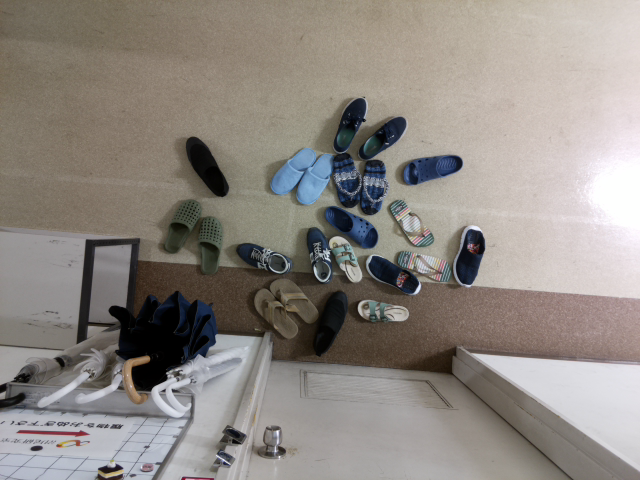Copy of Copy of Copy of Copy of Copy of Copy of Copy of Copy of Copy of Copy of: (360, 248, 431, 301), (267, 273, 329, 333), (263, 141, 322, 203), (286, 150, 345, 212), (303, 289, 356, 357), (380, 194, 443, 251), (391, 244, 460, 292), (248, 284, 301, 342), (348, 293, 419, 333), (318, 204, 381, 248), (355, 153, 394, 216), (327, 146, 365, 210)
Copy of Copy of Copy of Copy of Copy of Copy of Copy of Copy of Copy of shoe: (325, 229, 365, 286)
Copy of Copy of Copy of Copy of Copy of Copy of Copy of Copy of shoe: (295, 222, 338, 286)
Copy of Copy of Copy of Copy of Copy of Copy of Copy of shoe: (230, 235, 297, 275)
Copy of Copy of Copy of Copy of Copy of Copy of shoe: (187, 211, 235, 281)
Copy of Copy of Copy of Copy of Copy of shoe: (154, 193, 201, 262)
Copy of Copy of Copy of Copy of Copy of umbrella: (1, 322, 129, 409)
Copy of Copy of Copy of Copy of shoe: (357, 110, 411, 162)
Copy of Copy of Copy of Copy of umbrella: (26, 341, 122, 413)
Copy of Copy of Copy of shoe: (397, 149, 467, 189)
Copy of Copy of Copy of umbrella: (63, 356, 142, 413)
Copy of Copy of shoe: (449, 219, 488, 292)
Copy of Copy of umbrella: (106, 292, 220, 408)
Copy of shoe: (325, 88, 370, 159)
Copy of umbrella: (162, 352, 258, 426)
shoe: (178, 132, 233, 200)
umbrella: (147, 335, 256, 423)
